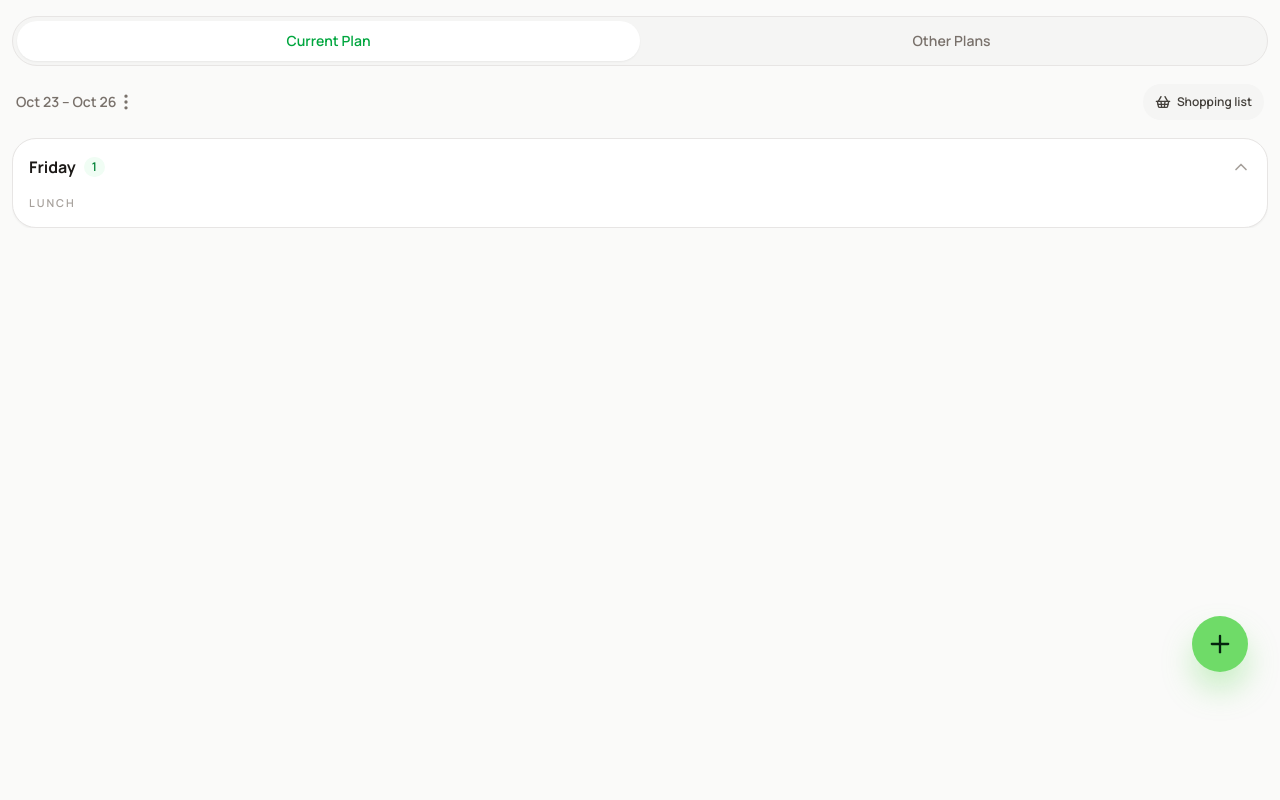
Scenario: PlanTabPage reminders export visibility and fallback › opens review panel after export click
This screenshot has width=1280, height=800.
Click the button "Shopping list".
click(1203, 102)  # box [1143,84,1264,120]
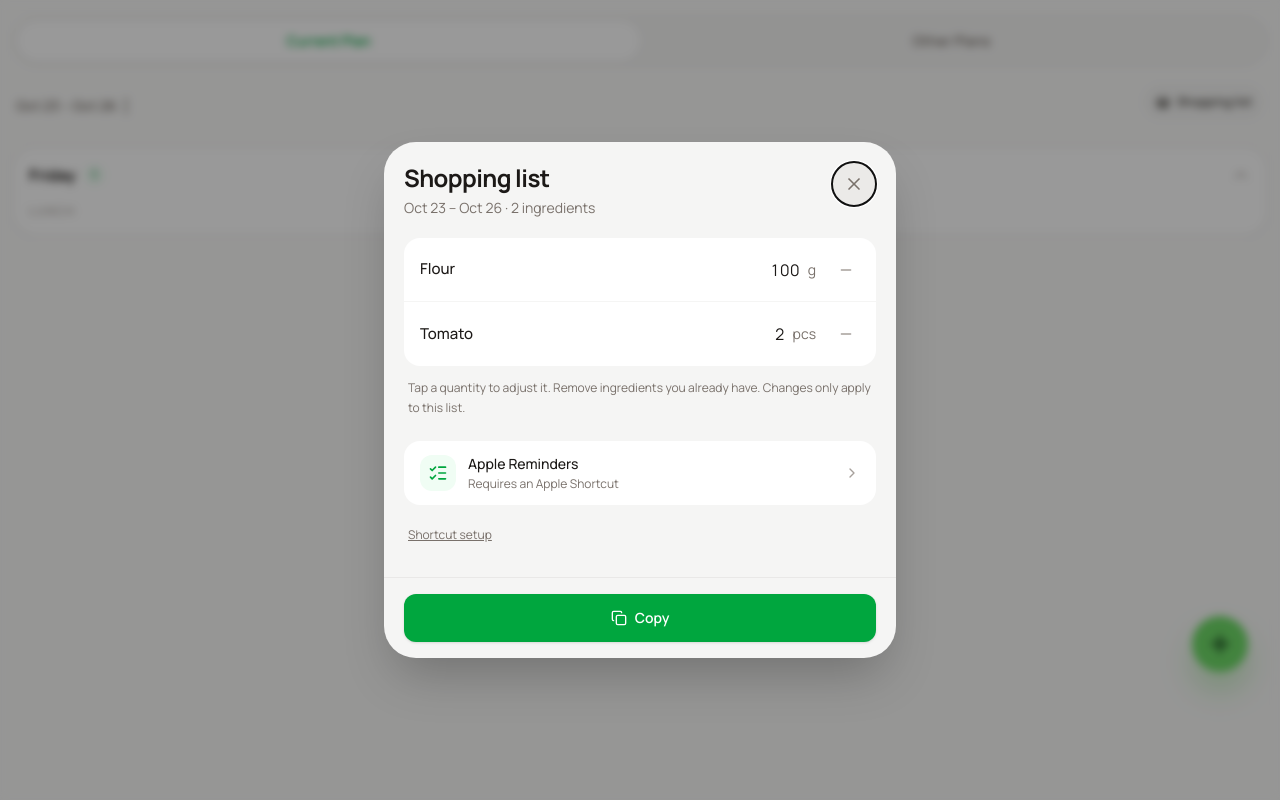
Expected: the dialog "Shopping list" is shown, [384,142,896,658]
Expected: the button "Apple Reminders Requires an Apple Shortcut" is shown, [404,441,876,505]
Expected: the button "Copy" is shown, [404,594,876,642]
